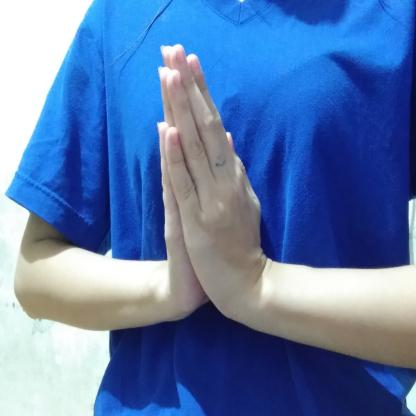sorry: (139, 37, 275, 338)
